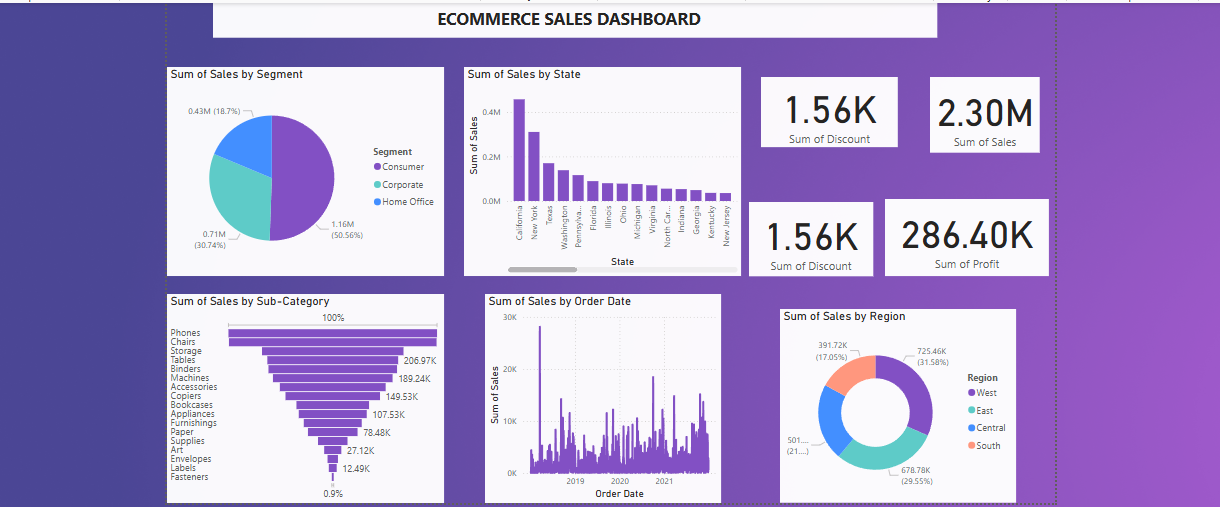

Layout of this report page (visuals, bound fields, positions):
{"tool":"powerbi","page":{"name":"Page 1","canvas":[1280,720],"ordinal":0},"visuals":[{"type":"donutChart","fields":{"Category":["Orders.Region"],"Y":["Sum(Orders.Sales)"]},"box":[882.7,440.6,339.8,279.4],"z":0},{"type":"funnel","fields":{"Category":["Orders.Sub-Category"],"Y":["Sum(Orders.Sales)"]},"box":[0,419,398.9,301],"z":1},{"type":"columnChart","fields":{"Category":["Orders.State"],"Y":["Sum(Orders.Sales)"]},"box":[427.7,92.2,398.9,301],"z":2},{"type":"pieChart","fields":{"Y":["Sum(Orders.Sales)"],"Category":["Orders.Segment"]},"box":[0,92.2,398.9,301],"z":3},{"type":"lineChart","fields":{"Category":["Orders.Order Date"],"Y":["Sum(Orders.Sales)"]},"box":[457.9,419,339.8,301],"z":4},{"type":"card","fields":{"Values":["Sum(Orders.Sales)"]},"box":[1098.7,106.6,158.4,109.4],"z":5},{"type":"card","fields":{"Values":["Sum(Orders.Profit)"]},"box":[1033.9,282.2,236.2,110.9],"z":6},{"type":"card","fields":{"Values":["Sum(Orders.Discount)"]},"box":[855.4,106.6,197.3,100.8],"z":7},{"type":"card","fields":{"Values":["Sum(Orders.Discount)"]},"box":[838.1,286.6,178.6,106.6],"z":8},{"type":"textbox","box":[66.2,0,1042.6,50.4],"z":9}]}

Visuals, with their boxes in screenshot pixels (x1, y1, x2, y2):
donutChart - Orders.Region x Sum(Orders.Sales): (777,307,1013,501)
funnel - Orders.Sub-Category x Sum(Orders.Sales): (162,292,440,501)
columnChart - Orders.State x Sum(Orders.Sales): (460,64,738,274)
pieChart - Sum(Orders.Sales) x Orders.Segment: (162,64,440,274)
lineChart - Orders.Order Date x Sum(Orders.Sales): (481,292,717,501)
card - Sum(Orders.Sales): (927,74,1037,150)
card - Sum(Orders.Profit): (882,196,1046,274)
card - Sum(Orders.Discount): (758,74,895,144)
card - Sum(Orders.Discount): (746,200,870,274)
textbox: (208,0,934,35)
